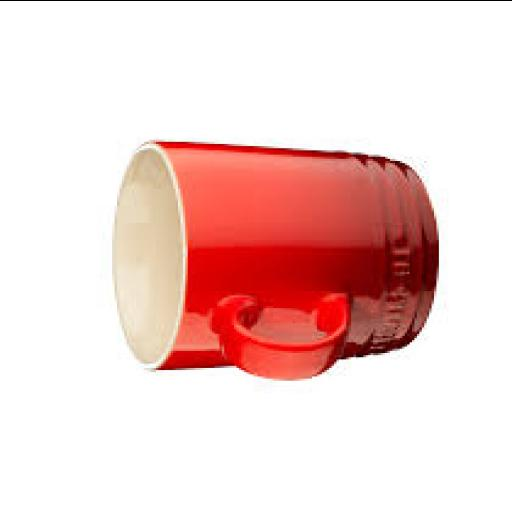red mug: (115, 142, 436, 378)
